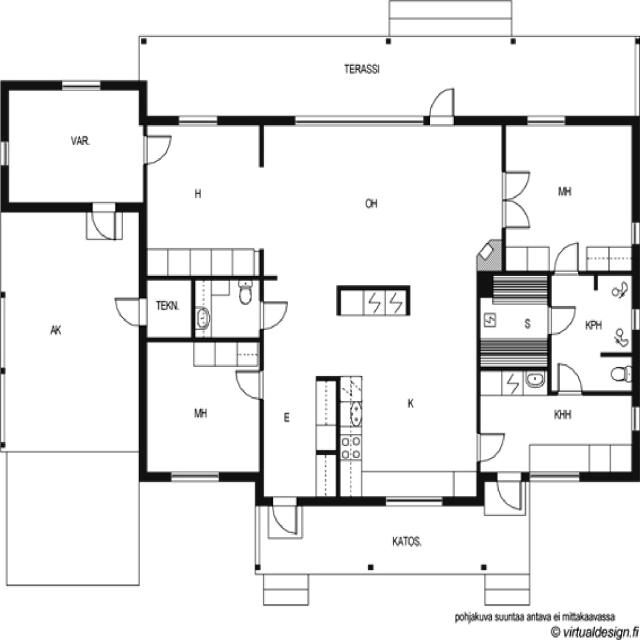door: (497, 163, 536, 236), (543, 300, 584, 339), (548, 236, 584, 280), (426, 82, 461, 127), (138, 128, 176, 168), (471, 427, 509, 466), (255, 295, 292, 334), (110, 292, 148, 329), (88, 199, 118, 245), (271, 494, 300, 540), (495, 468, 525, 512), (233, 367, 267, 404), (554, 360, 584, 396), (628, 213, 640, 248), (628, 306, 640, 334)
window: (293, 110, 426, 135), (380, 493, 450, 511), (164, 466, 225, 486), (519, 108, 574, 130), (172, 109, 224, 130), (55, 74, 108, 94), (525, 470, 586, 485), (0, 294, 11, 372), (0, 372, 10, 447), (631, 38, 640, 110), (629, 403, 640, 436), (0, 138, 12, 168)
zone: (268, 120, 507, 282), (0, 209, 148, 459), (338, 291, 478, 498), (499, 121, 635, 272), (3, 450, 146, 588), (144, 118, 264, 274), (4, 84, 144, 208), (142, 338, 262, 478), (472, 386, 638, 480), (260, 378, 338, 500), (478, 276, 550, 371), (194, 278, 262, 340), (144, 279, 194, 340), (596, 276, 636, 348)
